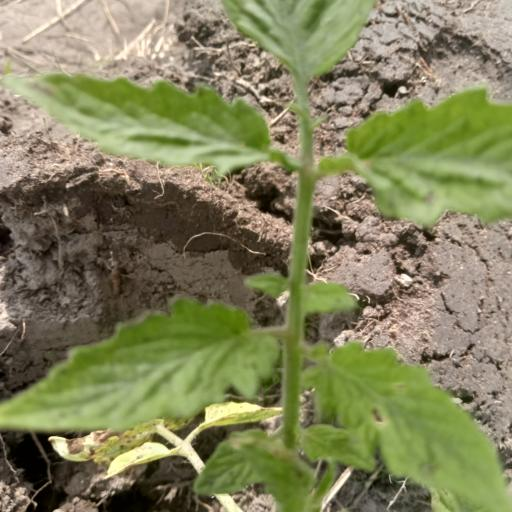Tomato_Brown_Spots: (0, 288, 281, 440), (306, 333, 512, 512), (15, 66, 277, 175), (337, 86, 512, 230)
